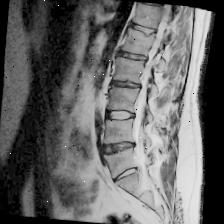disc: (106, 74, 146, 96), (126, 19, 162, 40), (105, 106, 139, 127), (113, 164, 142, 180)
hdisc: (102, 136, 140, 160), (114, 45, 152, 66)
